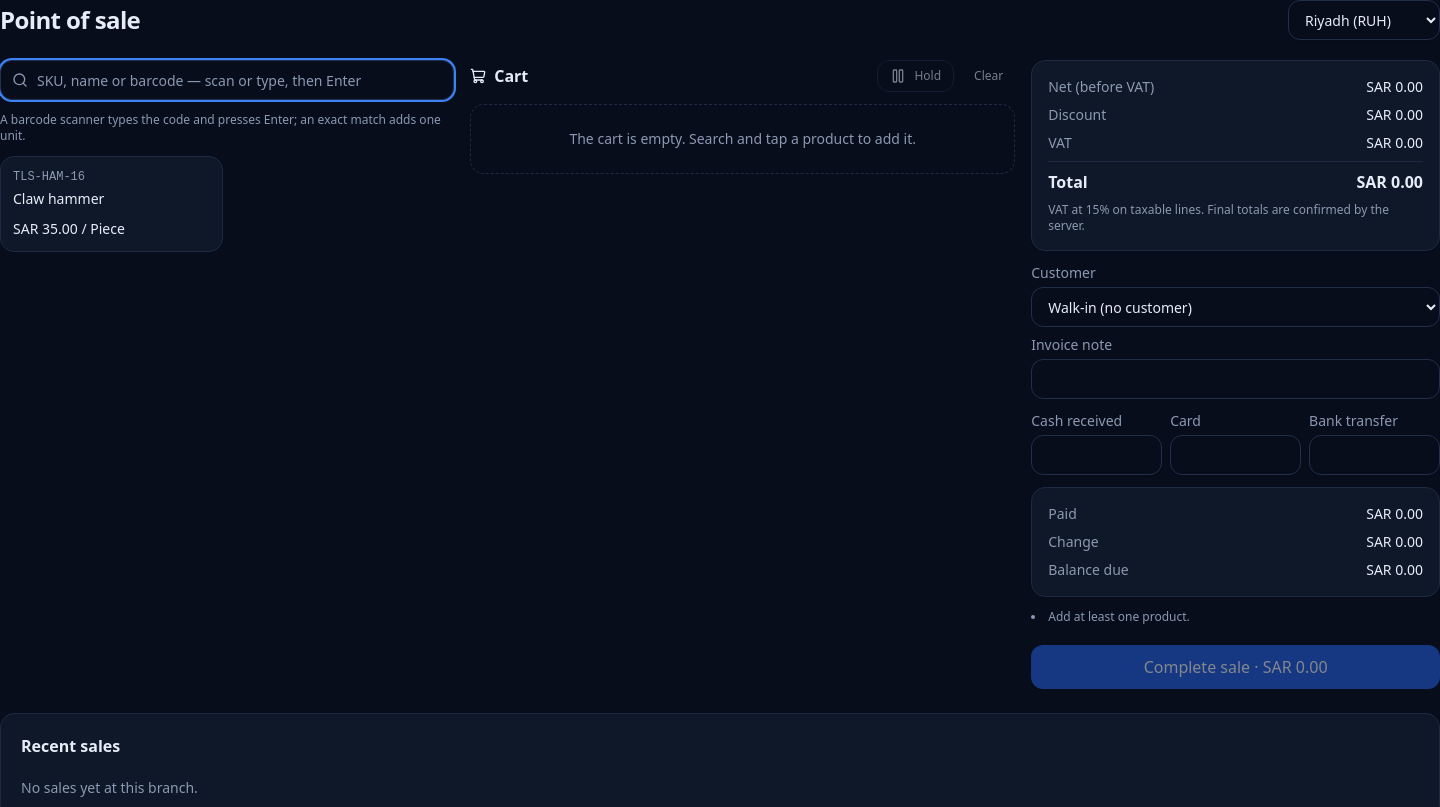
Test case: POS › records a cash sale: amount applied, cash handed over, and the server receipt
Click the button with aria-label "Add TLS-HAM-16 Claw hammer" at (112, 204), box [0,156,223,252]
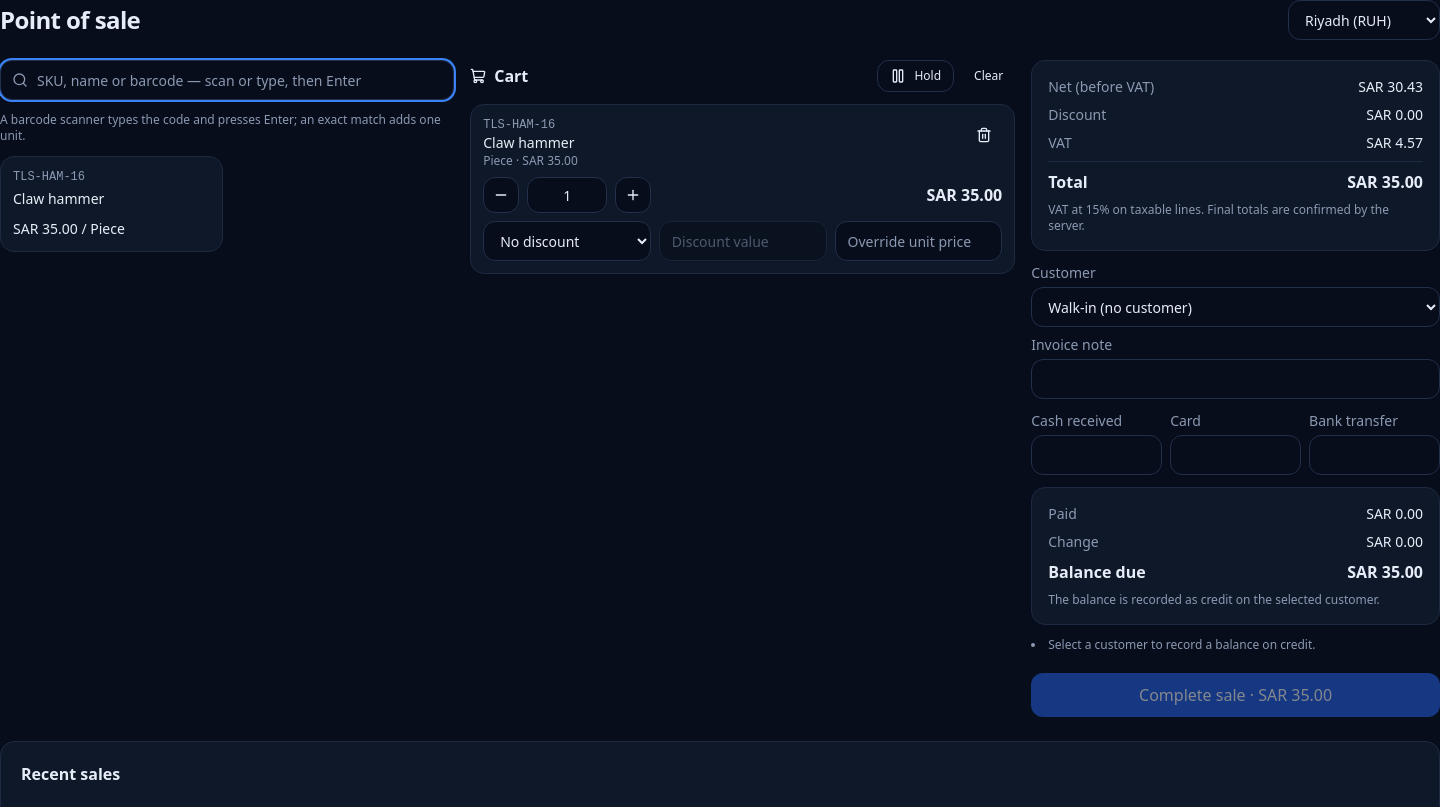
Type "40" into the field labelled "Cash received" at (1097, 455), box [1031,435,1162,475]
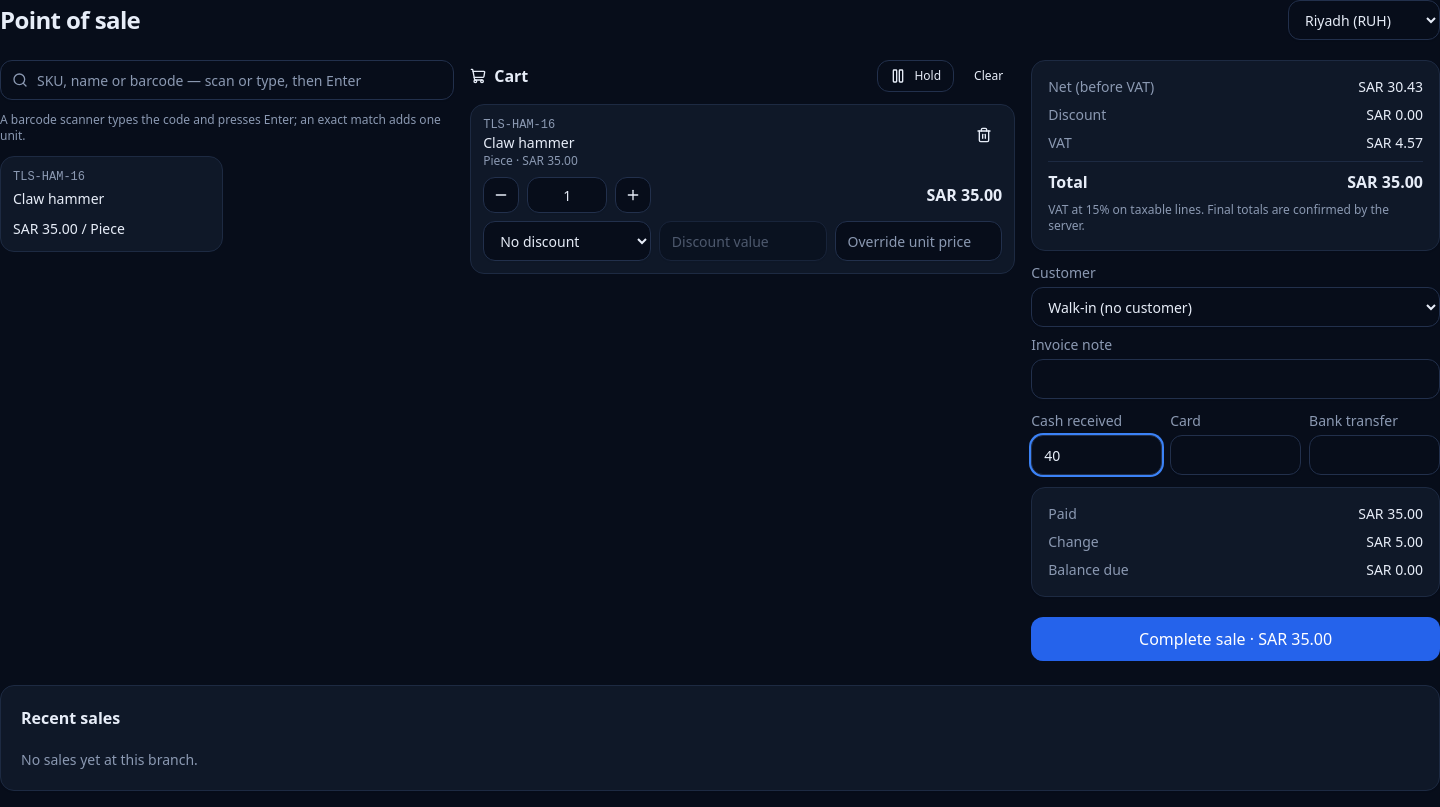
Expected: the text "SAR 35.00 / Piece" is shown, [13,219,125,239]
Click the button "Complete sale · SAR 35.00" at (1236, 639), box [1031,617,1439,661]
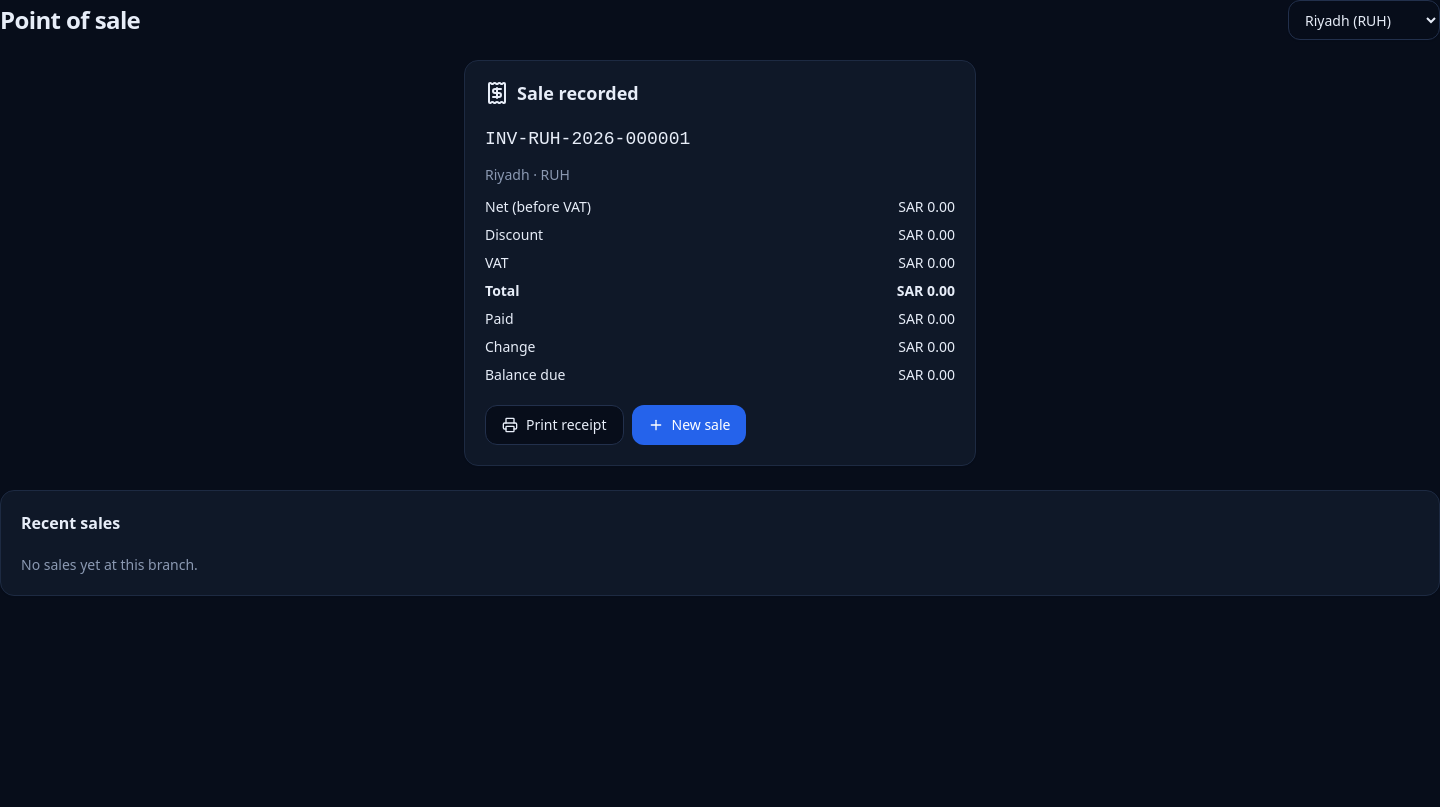
Expected: the text "INV-RUH-2026-000001" is shown, [485,129,690,149]
